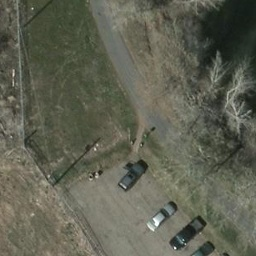car: (167, 216, 204, 252), (118, 160, 144, 192), (146, 202, 174, 230)
